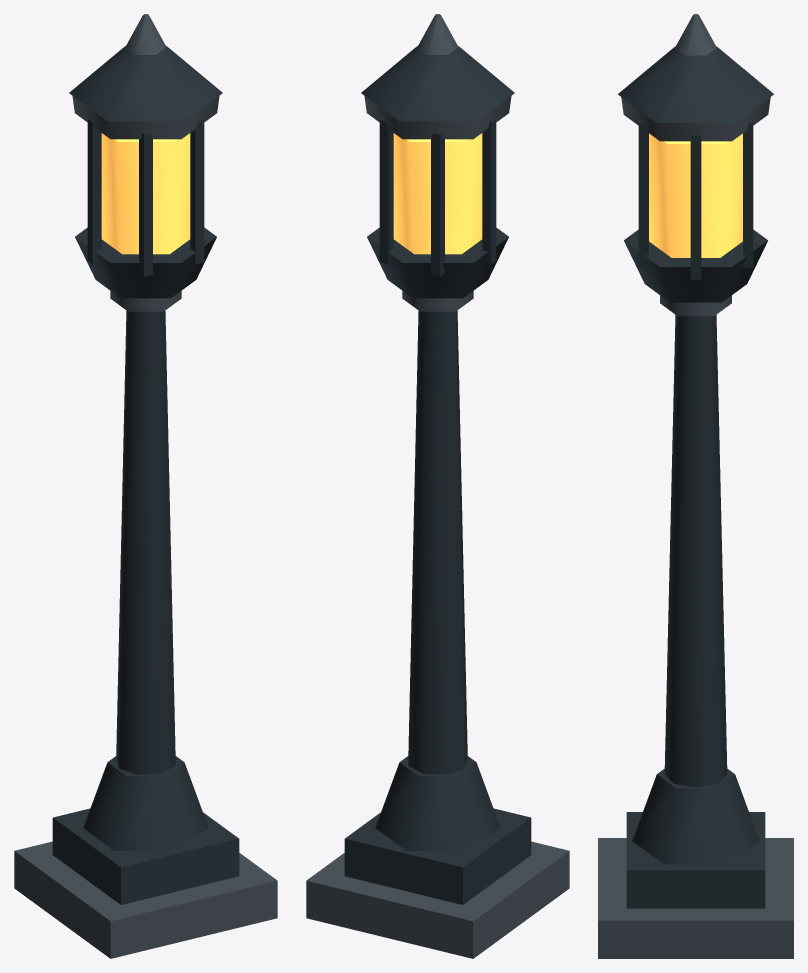
The model's file is Lantern_Amber.glb.
The picture shows the model from 3 angles, left to right: view 1: azimuth 30°, elevation 25°; view 2: azimuth 150°, elevation 25°; view 3: azimuth 270°, elevation 25°; orthographic projection.
Parts seen in each view (by area): view 1: Lantern_Amber; view 2: Lantern_Amber; view 3: Lantern_Amber.
Boxes of the visible parts, x1=… form: Lantern_Amber: x1=14, y1=14, x2=277, y2=958; Lantern_Amber: x1=306, y1=14, x2=569, y2=958; Lantern_Amber: x1=598, y1=14, x2=793, y2=958.
Size of the model in its own units: 0.6293 by 3.2 by 0.6293.
